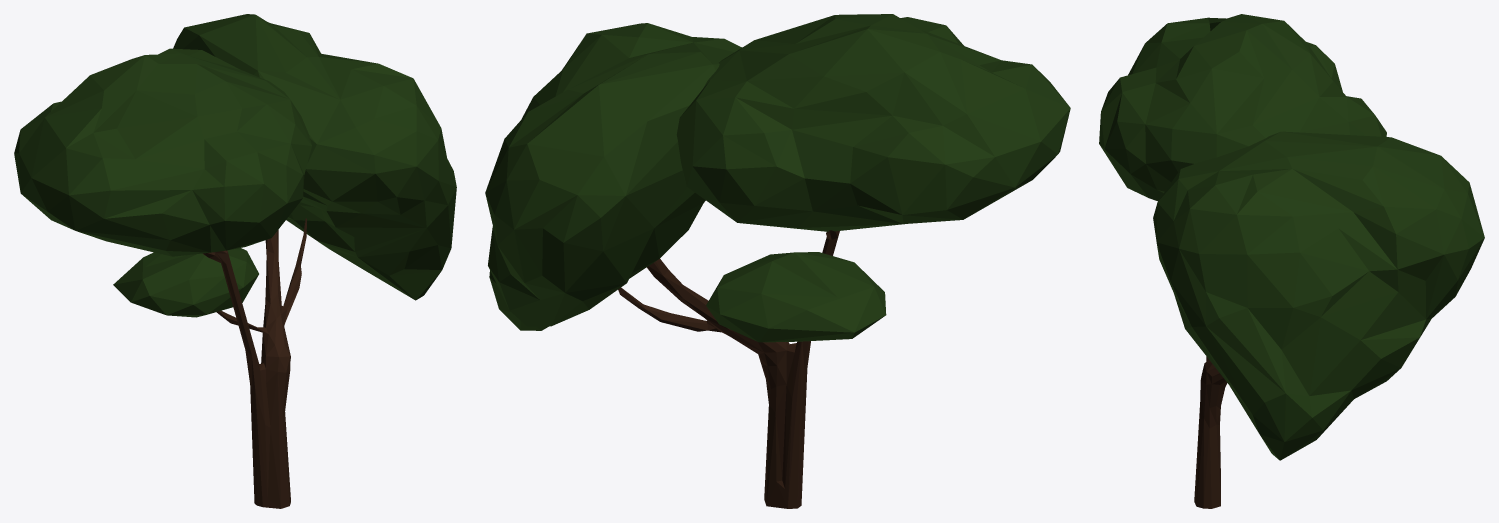
File: SM_tree_jungle_05.fbx
3 views of the same model, side by side, from view 1: azimuth 30°, elevation 25°; view 2: azimuth 150°, elevation 25°; view 3: azimuth 270°, elevation 25° (orthographic). The views are drawn at different scales.
Visible parts, largest first — view 1: Object005; view 2: Object005; view 3: Object005.
Part boxes in pixels (x1,y1,x2,y2): Object005: (14, 14, 456, 508); Object005: (485, 14, 1070, 508); Object005: (1099, 14, 1484, 508).
Bounding box in the file's own units: 371 × 365 × 295.
